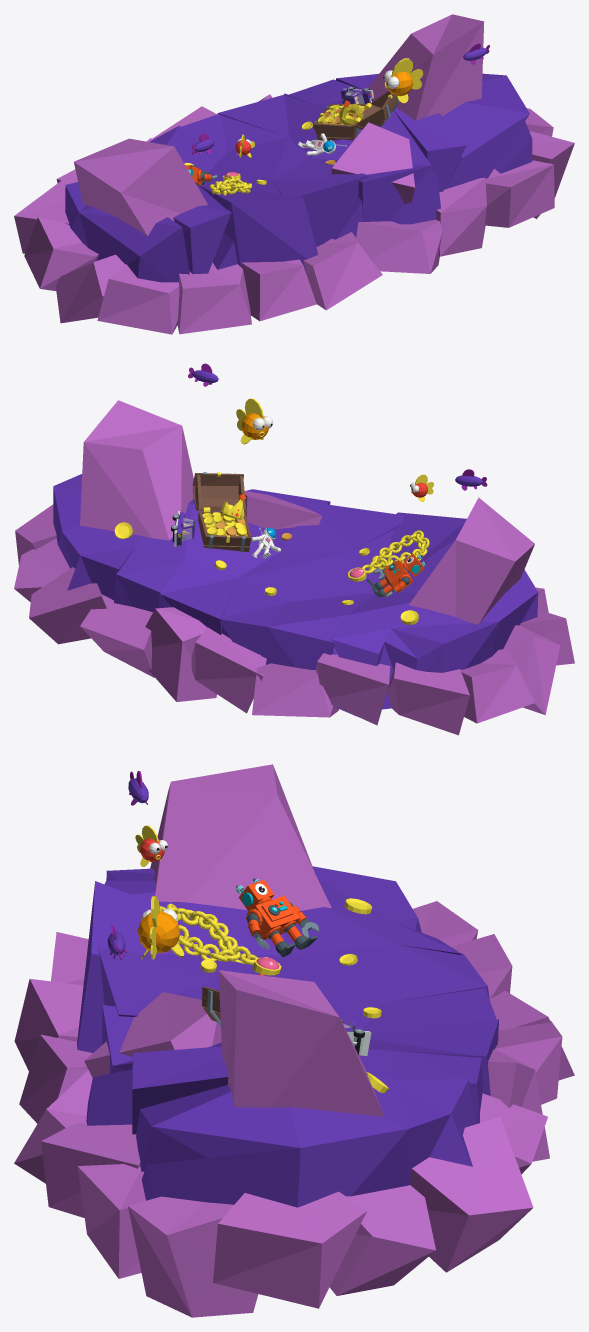
File: xdxd.glb
3 views of the same model, one above another, from view 1: azimuth 30°, elevation 25°; view 2: azimuth 150°, elevation 25°; view 3: azimuth 270°, elevation 25° (orthographic). The views are drawn at different scales.
Visible parts, largest first — view 1: group938294867, group346353283, group685469970, group699823051, group1514700289, group810189517, group967451051, group122302619, group2014525625, group2006633998, group520822650, group382973645 (+10 smaller); view 2: group938294867, group685469970, group346353283, group1450045553, group1859506793, group109194806, group1172106769, group1514744309, group97774442, group2141108688, group520822650, group1367773465 (+10 smaller); view 3: group938294867, group346353283, group685469970, group704623174, group2141108688, group408322312, group612392218, group967451051, group382973645, group2006633998, group2014525625, group122302619 (+12 smaller).
Part boxes in pixels (left/top/right/bottom): group938294867: left=65, top=73, right=532, bottom=282; group346353283: left=74, top=138, right=207, bottom=235; group685469970: left=368, top=14, right=484, bottom=120; group699823051: left=177, top=262, right=251, bottom=334; group1514700289: left=97, top=264, right=179, bottom=334; group810189517: left=356, top=219, right=442, bottom=273; group967451051: left=485, top=160, right=554, bottom=227; group122302619: left=303, top=232, right=382, bottom=310; group2014525625: left=240, top=259, right=316, bottom=321; group2006633998: left=331, top=122, right=415, bottom=204; group520822650: left=24, top=217, right=98, bottom=290; group382973645: left=436, top=177, right=486, bottom=256; group938294867: left=53, top=474, right=538, bottom=716; group685469970: left=80, top=400, right=193, bottom=540; group346353283: left=409, top=497, right=534, bottom=624; group1450045553: left=387, top=662, right=469, bottom=735; group1859506793: left=145, top=607, right=216, bottom=701; group109194806: left=192, top=472, right=251, bottom=552; group1172106769: left=191, top=627, right=266, bottom=713; group1514744309: left=252, top=663, right=338, bottom=717; group97774442: left=316, top=653, right=390, bottom=725; group2141108688: left=29, top=567, right=106, bottom=644; group520822650: left=460, top=648, right=534, bottom=723; group1367773465: left=80, top=594, right=154, bottom=677; group938294867: left=77, top=866, right=499, bottom=1207; group346353283: left=150, top=764, right=331, bottom=910; group685469970: left=218, top=970, right=384, bottom=1116; group704623174: left=213, top=1191, right=366, bottom=1308; group2141108688: left=410, top=1117, right=533, bottom=1272; group408322312: left=128, top=1196, right=258, bottom=1317; group612392218: left=329, top=1185, right=435, bottom=1295; group967451051: left=77, top=1164, right=145, bottom=1278; group382973645: left=41, top=1122, right=140, bottom=1217; group2006633998: left=84, top=992, right=221, bottom=1077; group2014525625: left=14, top=979, right=83, bottom=1070; group122302619: left=19, top=1034, right=92, bottom=1123.
Bounding box in the file's own units: 5.34 × 2.26 × 3.3.
